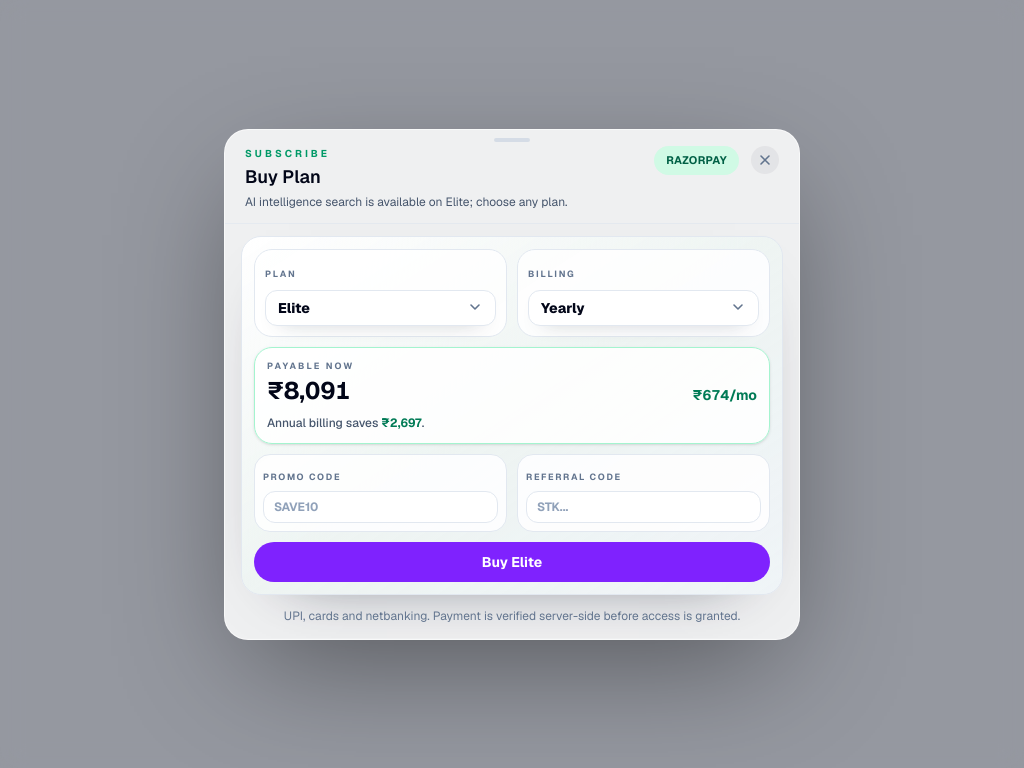
Scenario: SubscribeModal › opens on the required plan and offers every unsubscribed plan in the dropdown
expect the dialog shows "Buy Plan": met, box top-left (245, 165), bottom-right (321, 188)
expect the text "Elite" is shown: met, box top-left (278, 297), bottom-right (310, 317)
Click the dropdown named "Subscription plan": {"x": 380, "y": 307} top-left (265, 289), bottom-right (496, 325)
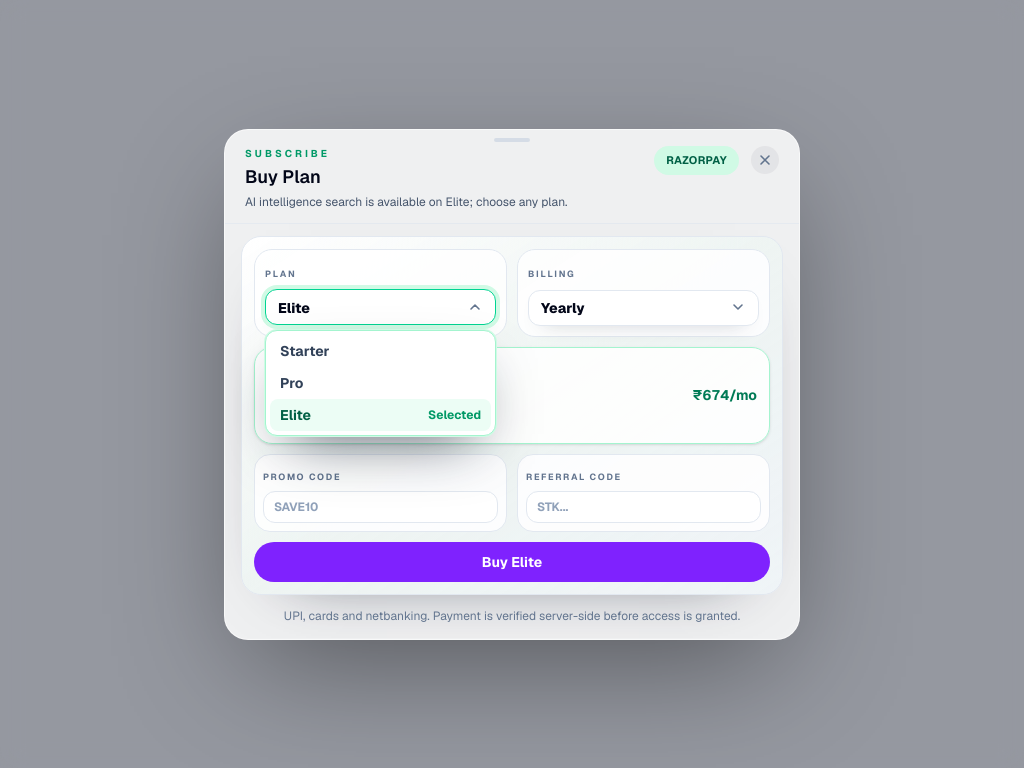
expect the option "Starter" is shown: met, box top-left (270, 335), bottom-right (491, 367)
expect the option "Pro" is shown: met
Click the option "Pro": {"x": 380, "y": 383} top-left (270, 367), bottom-right (491, 399)
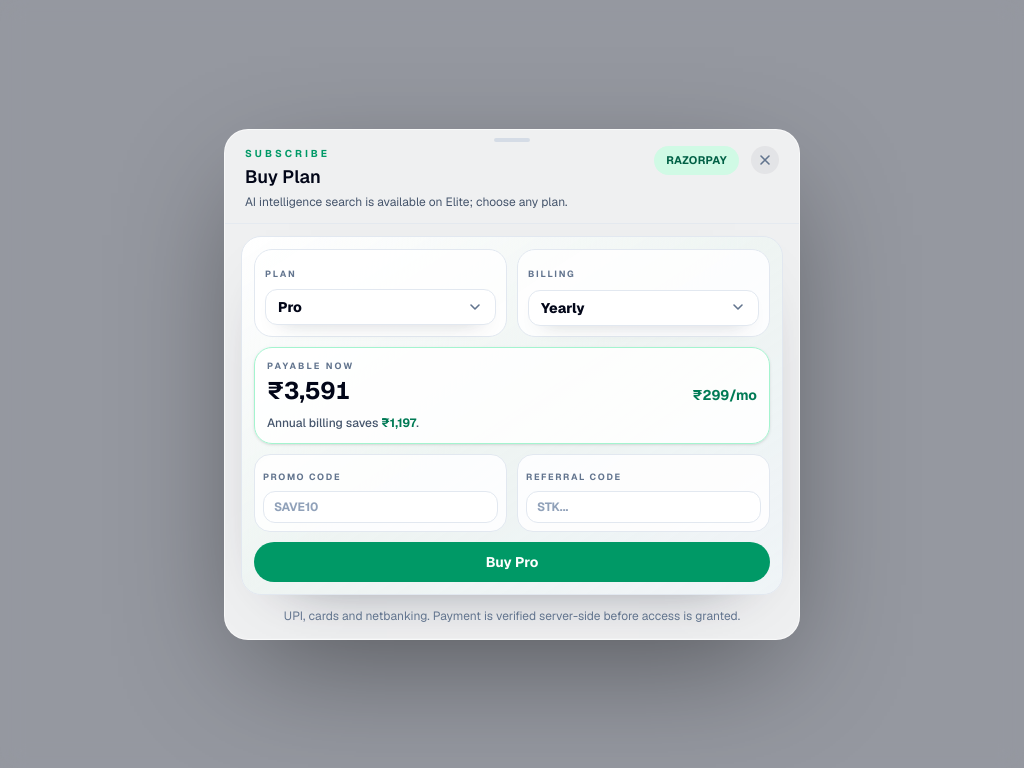
expect the text "₹3,591" is shown: met, box top-left (267, 375), bottom-right (354, 407)
expect the text "₹299/mo" is shown: met, box top-left (692, 385), bottom-right (757, 407)
expect the button "Buy Pro" is shown: met, box top-left (254, 542), bottom-right (770, 582)
Click the dropdown named "Subscription plan": {"x": 380, "y": 307} top-left (265, 289), bottom-right (496, 325)
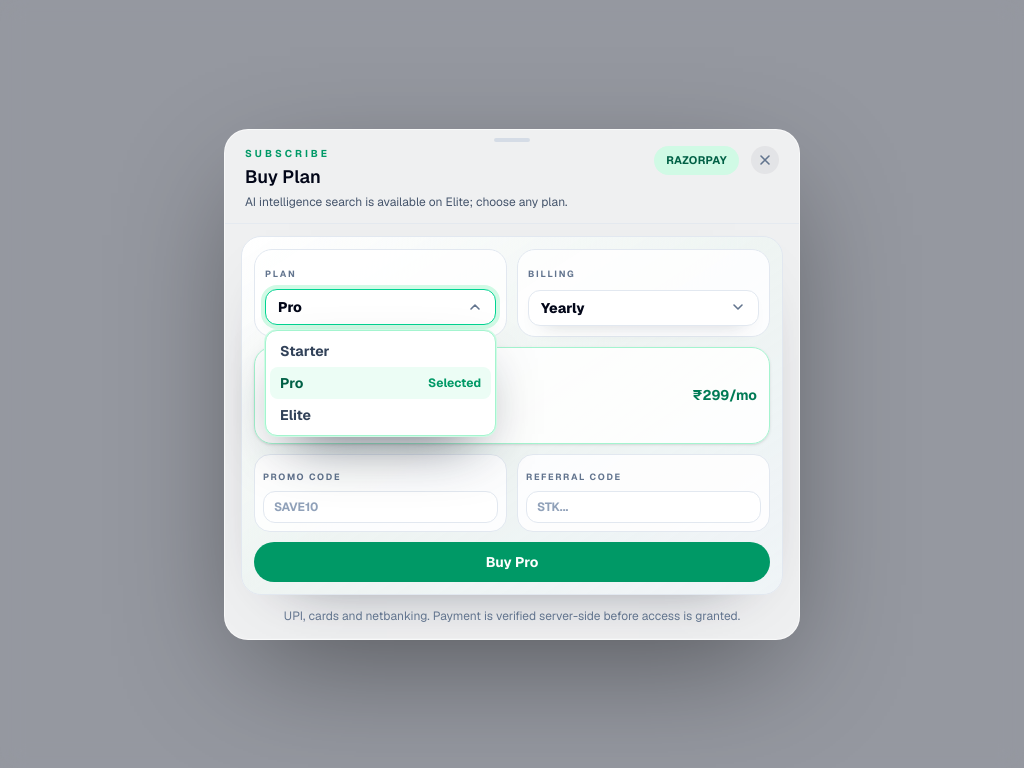
Click the option "Starter": {"x": 380, "y": 351} top-left (270, 335), bottom-right (491, 367)
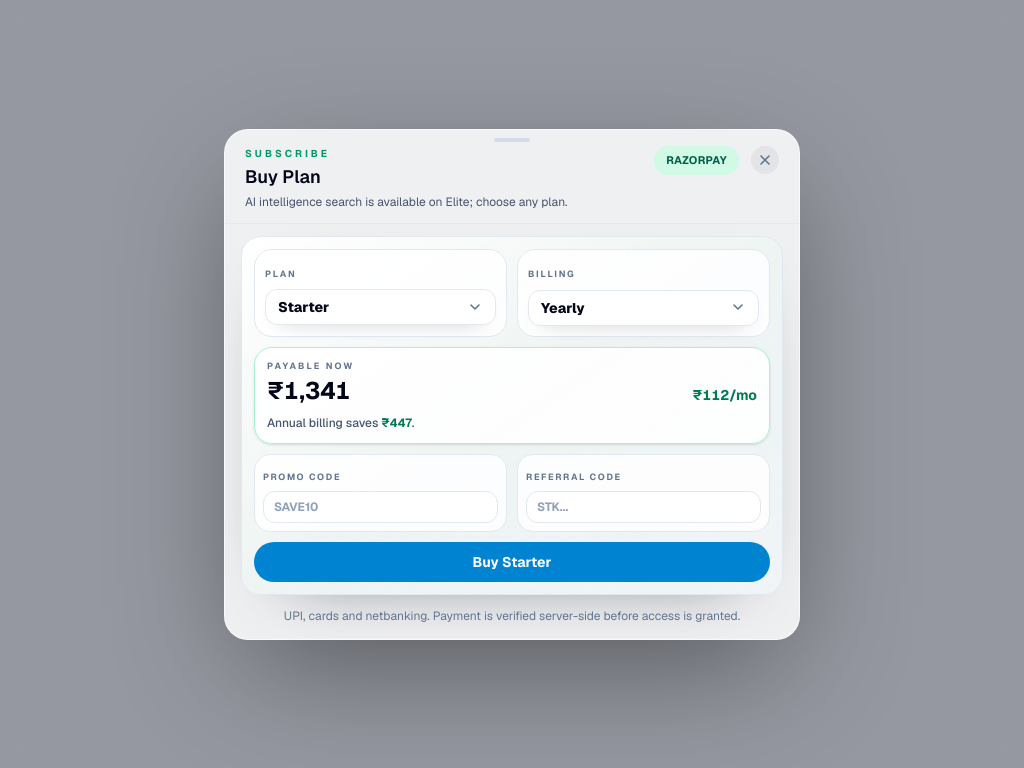
expect the dialog does not show "Direct line to the desk": met, box top-left (224, 129), bottom-right (800, 639)
expect the button "Buy Starter" is shown: met, box top-left (254, 542), bottom-right (770, 582)
